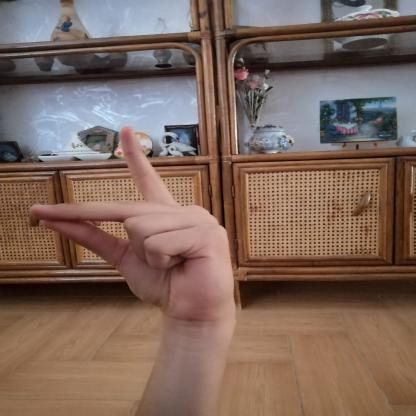TAA: (13, 116, 255, 332)
